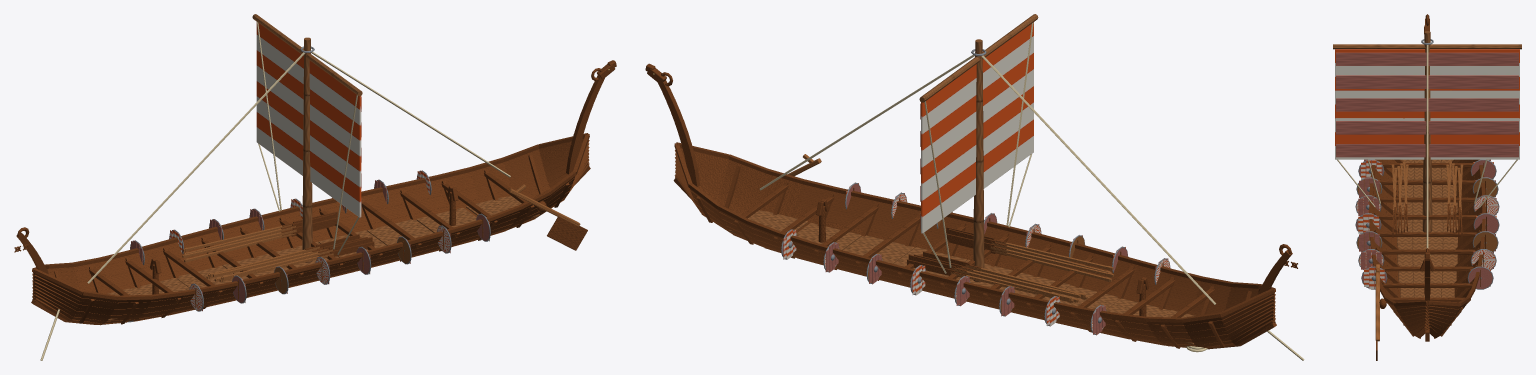
Rendered from viking-age-longhouse-and-longship-viking-longship-cefef443__30188.glb.
3 views of the same model, side by side, from view 1: azimuth 30°, elevation 25°; view 2: azimuth 150°, elevation 25°; view 3: azimuth 270°, elevation 25° (orthographic). The views are drawn at different scales.
Visible parts, largest first — view 1: viking-longship, steering-oar/oak; view 2: viking-longship; view 3: viking-longship, steering-oar/ash.
Part boxes in pixels (bbox=[...]): viking-longship: bbox=[14, 14, 616, 360]; steering-oar/oak: bbox=[547, 217, 587, 250]; viking-longship: bbox=[645, 14, 1304, 360]; viking-longship: bbox=[1333, 14, 1521, 341]; steering-oar/ash: bbox=[1375, 264, 1379, 341].
Bounding box in the file's own units: 17.86 × 7.06 × 5.4.
9 materials, 6 textured.
